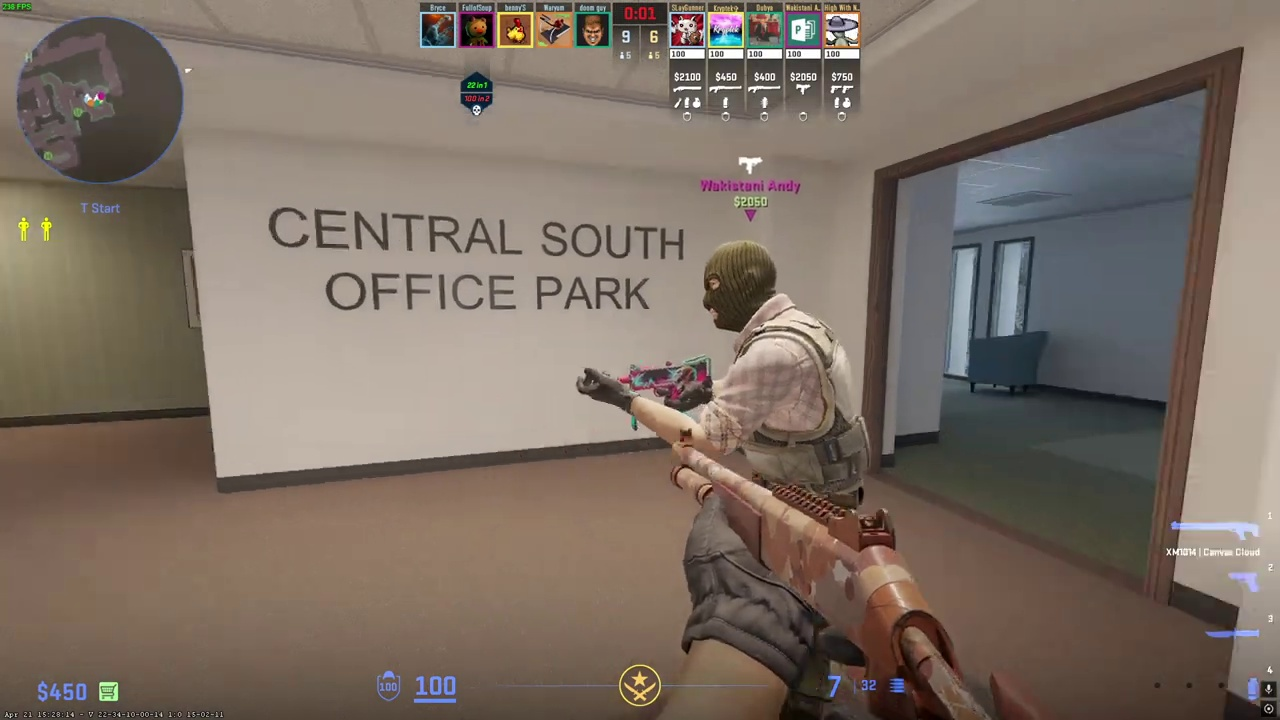Terrorist: (679, 240, 871, 518)
